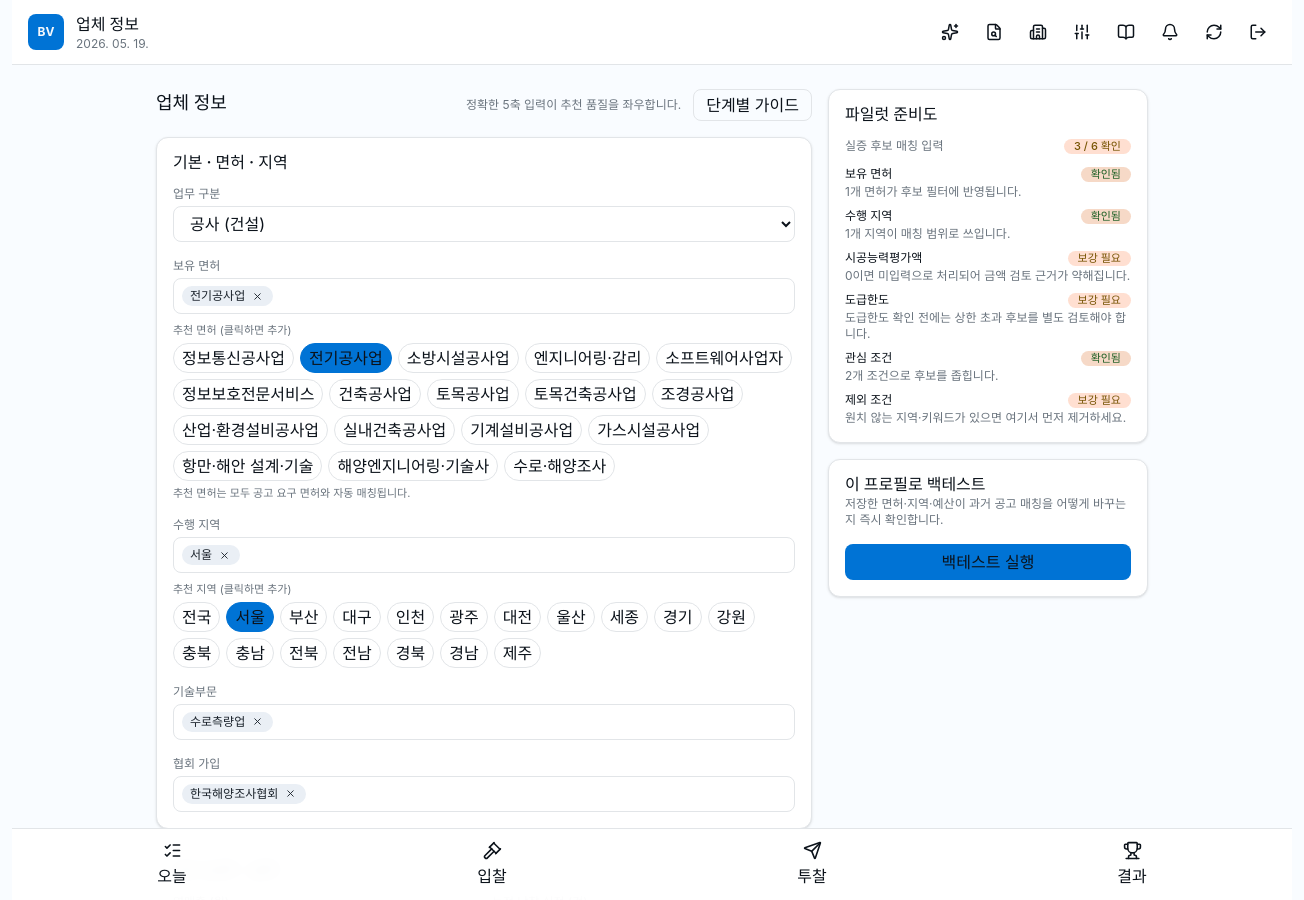
Test: CompanyInfoEditor › 건설 면허 추천 칩(건축공사업)도 매칭 가능 칩으로 표시되어 클릭 시 토큰이 추가된다
Click the button with aria-label "보유 면허에 건축공사업 추가".
click(375, 394)  # box [330, 378, 421, 408]
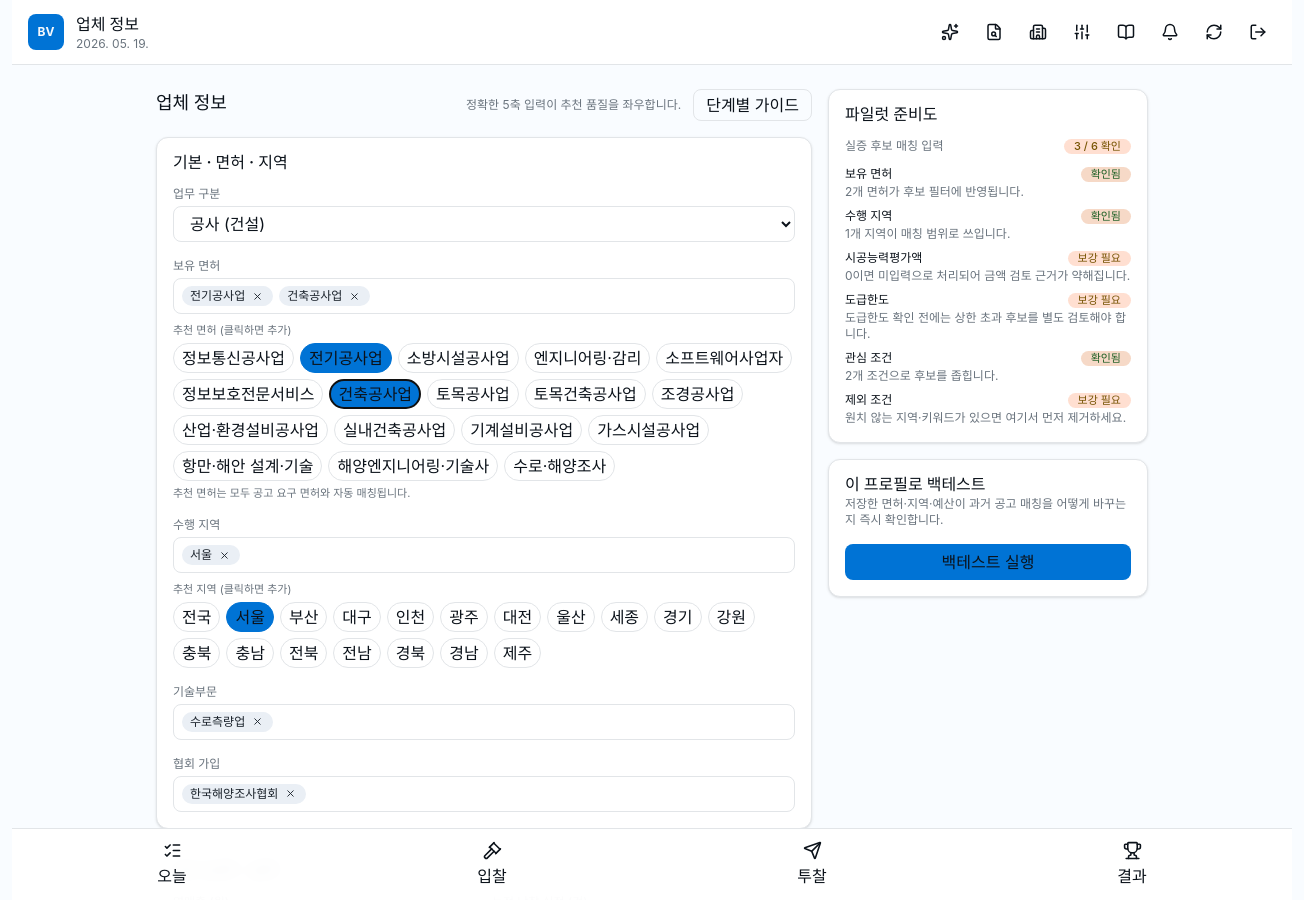
Expected: the button named "보유 면허에서 건축공사업 제거" is shown, [346, 288, 362, 304]
